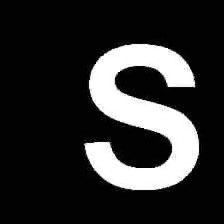LTR_S: (75, 37, 209, 203)
